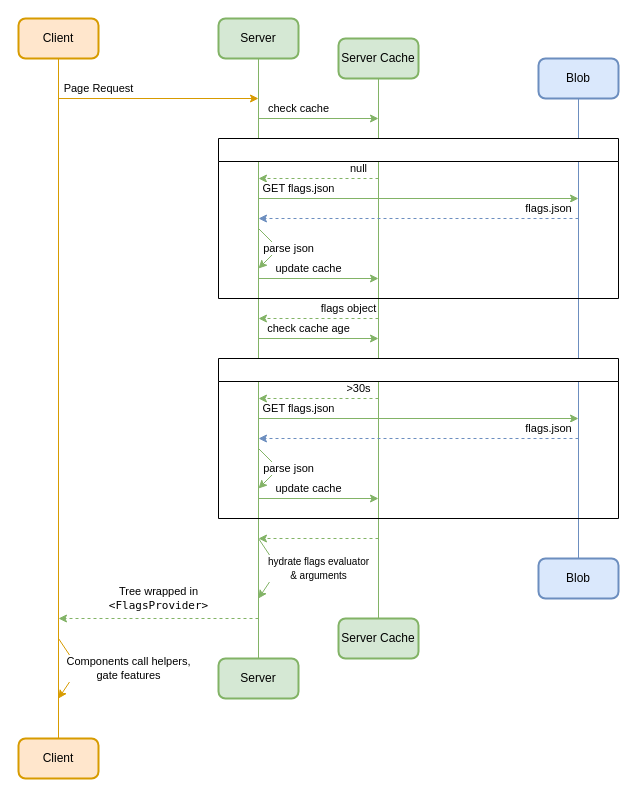
The diagram is 636 pixels wide and 796 high, and some of its shapes have lost their labels. Each missing label, with the centre of its shape:
Cache is empty: [418,218]
Cache is older than 30 seconds: [418,438]
